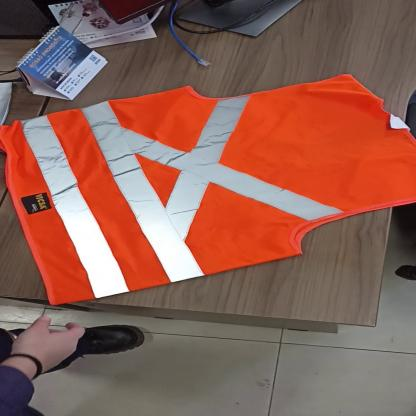colete: (0, 73, 416, 308)
